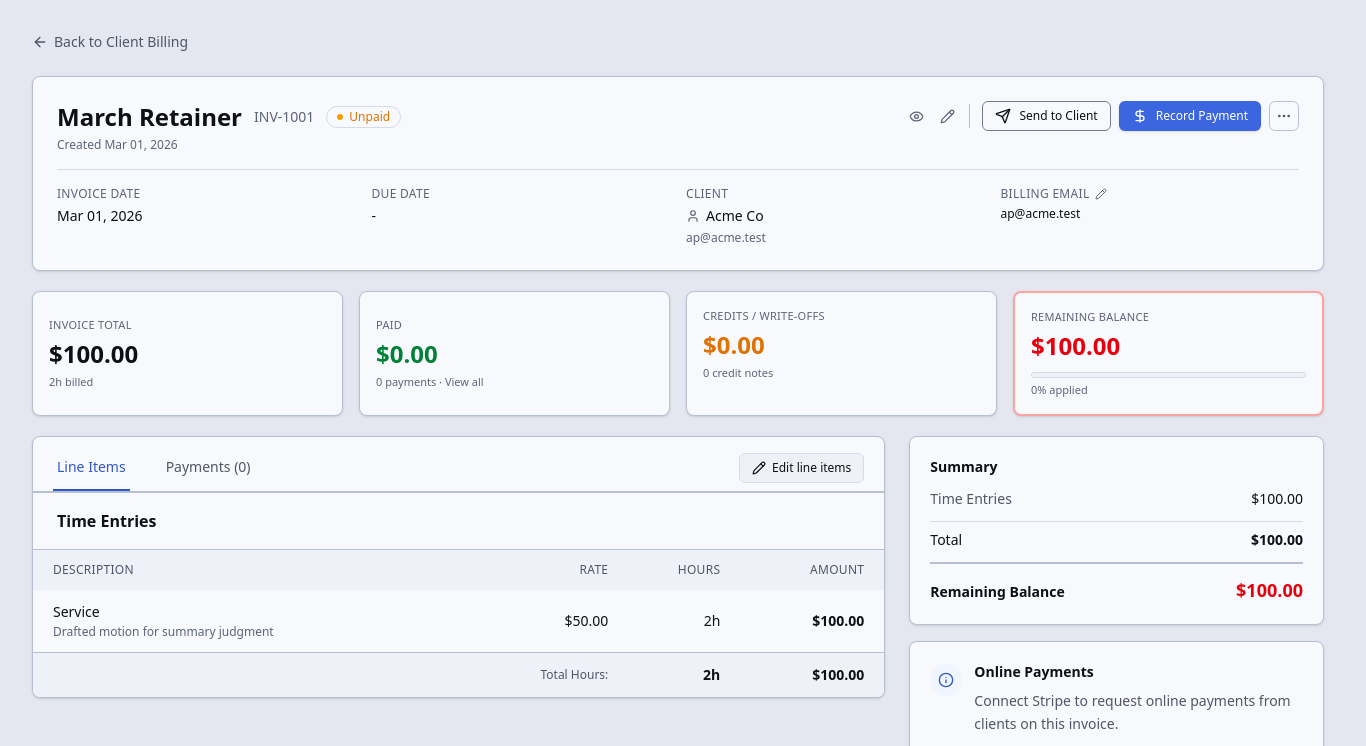
Scenario: a successful action: recording a payment › records the payment and reflects the new balance
Click the button "Record Payment" at (1190, 116), box [1119,101,1261,131]
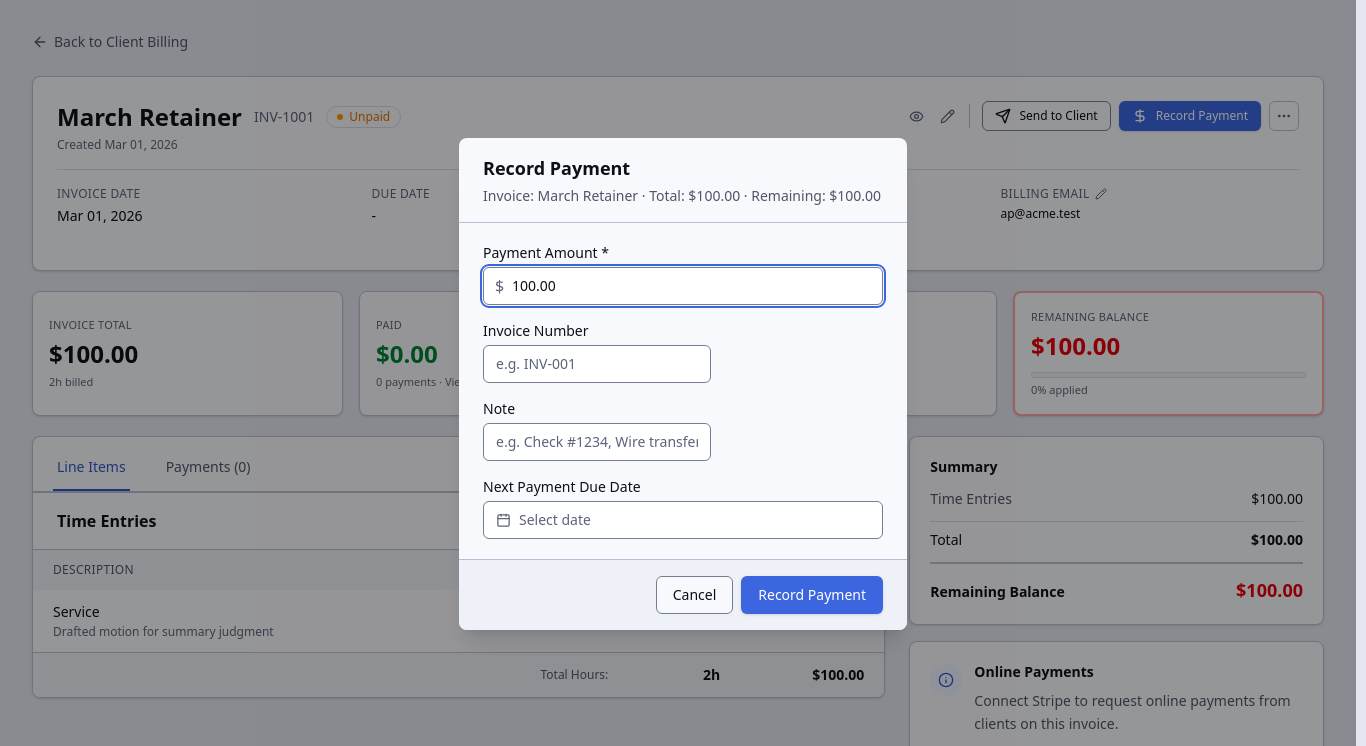
Replace the text in the number field with placeholder "0.00" with "50" at (683, 286), box [483,267,883,305]
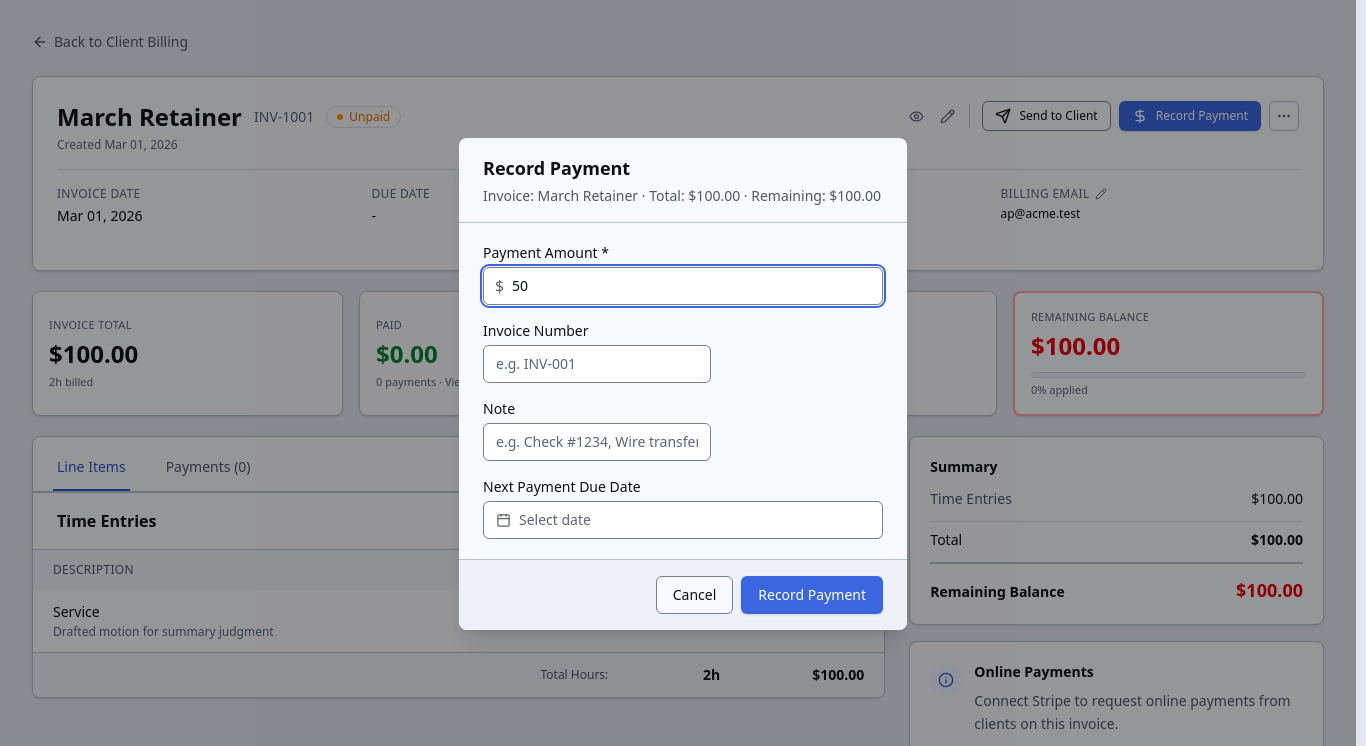
Click the button "Record Payment" at (812, 595), box [741,576,883,614]
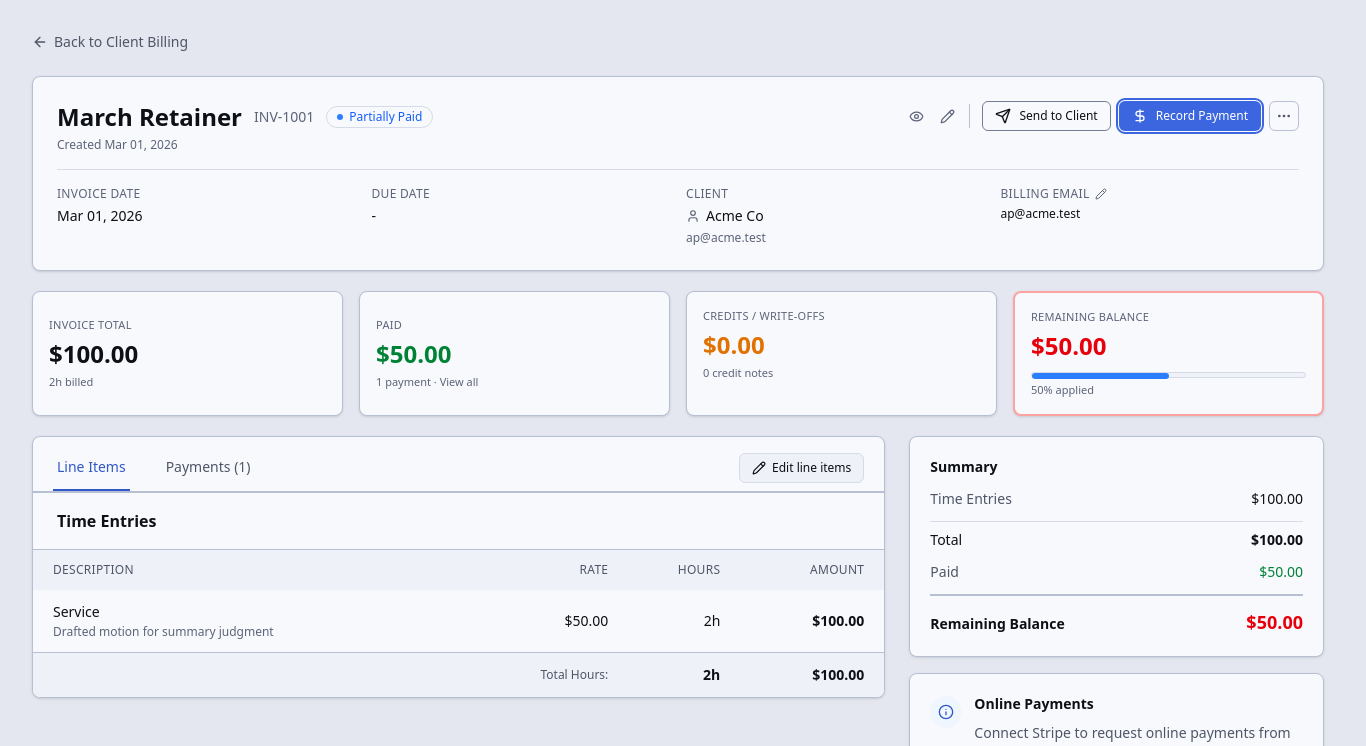
Result: the dialog is gone
Result: the 1st text "$50.00" is shown at [376,336,452,370]
Result: the text "1 payment · View all" is shown at [376,374,478,388]
